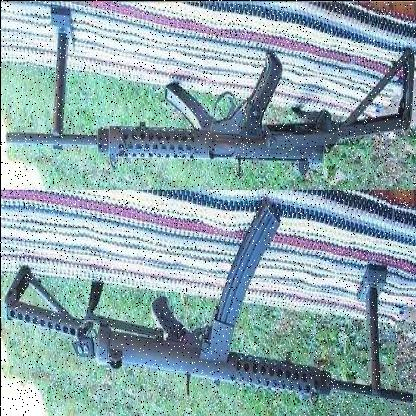rifle: (1, 185, 413, 410), (1, 33, 415, 184)
